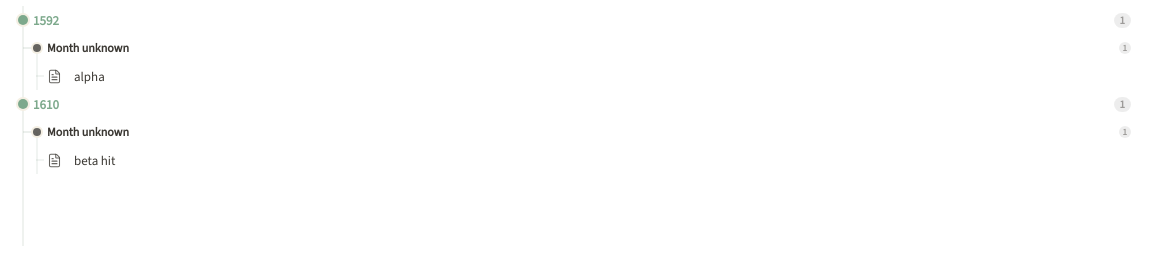
it: TimelineExpanded › clicking a header label folds the year and hides its notes
Check: the text "alpha" is shown, box [74, 68, 105, 84]
# v 캐럿 제거 — 라벨 자체가 접기 토글 역할.
Click the text "1592": (46, 20) [33, 12, 59, 28]
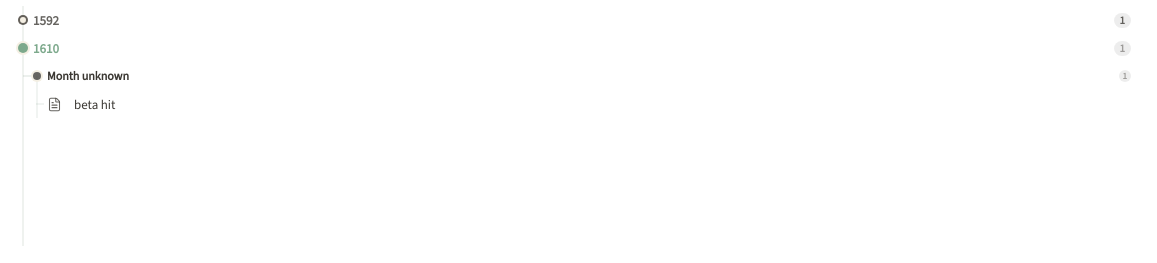
Check: the button "alpha" is gone
Click the text "1592": (46, 20) [33, 12, 59, 28]
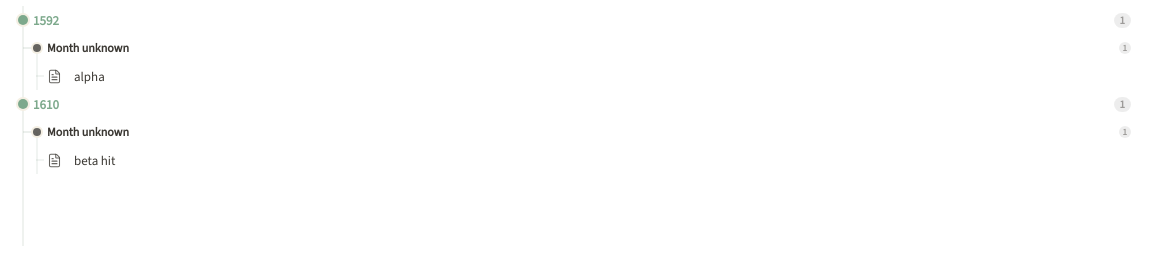
Check: the text "alpha" is shown, box [74, 68, 105, 84]
